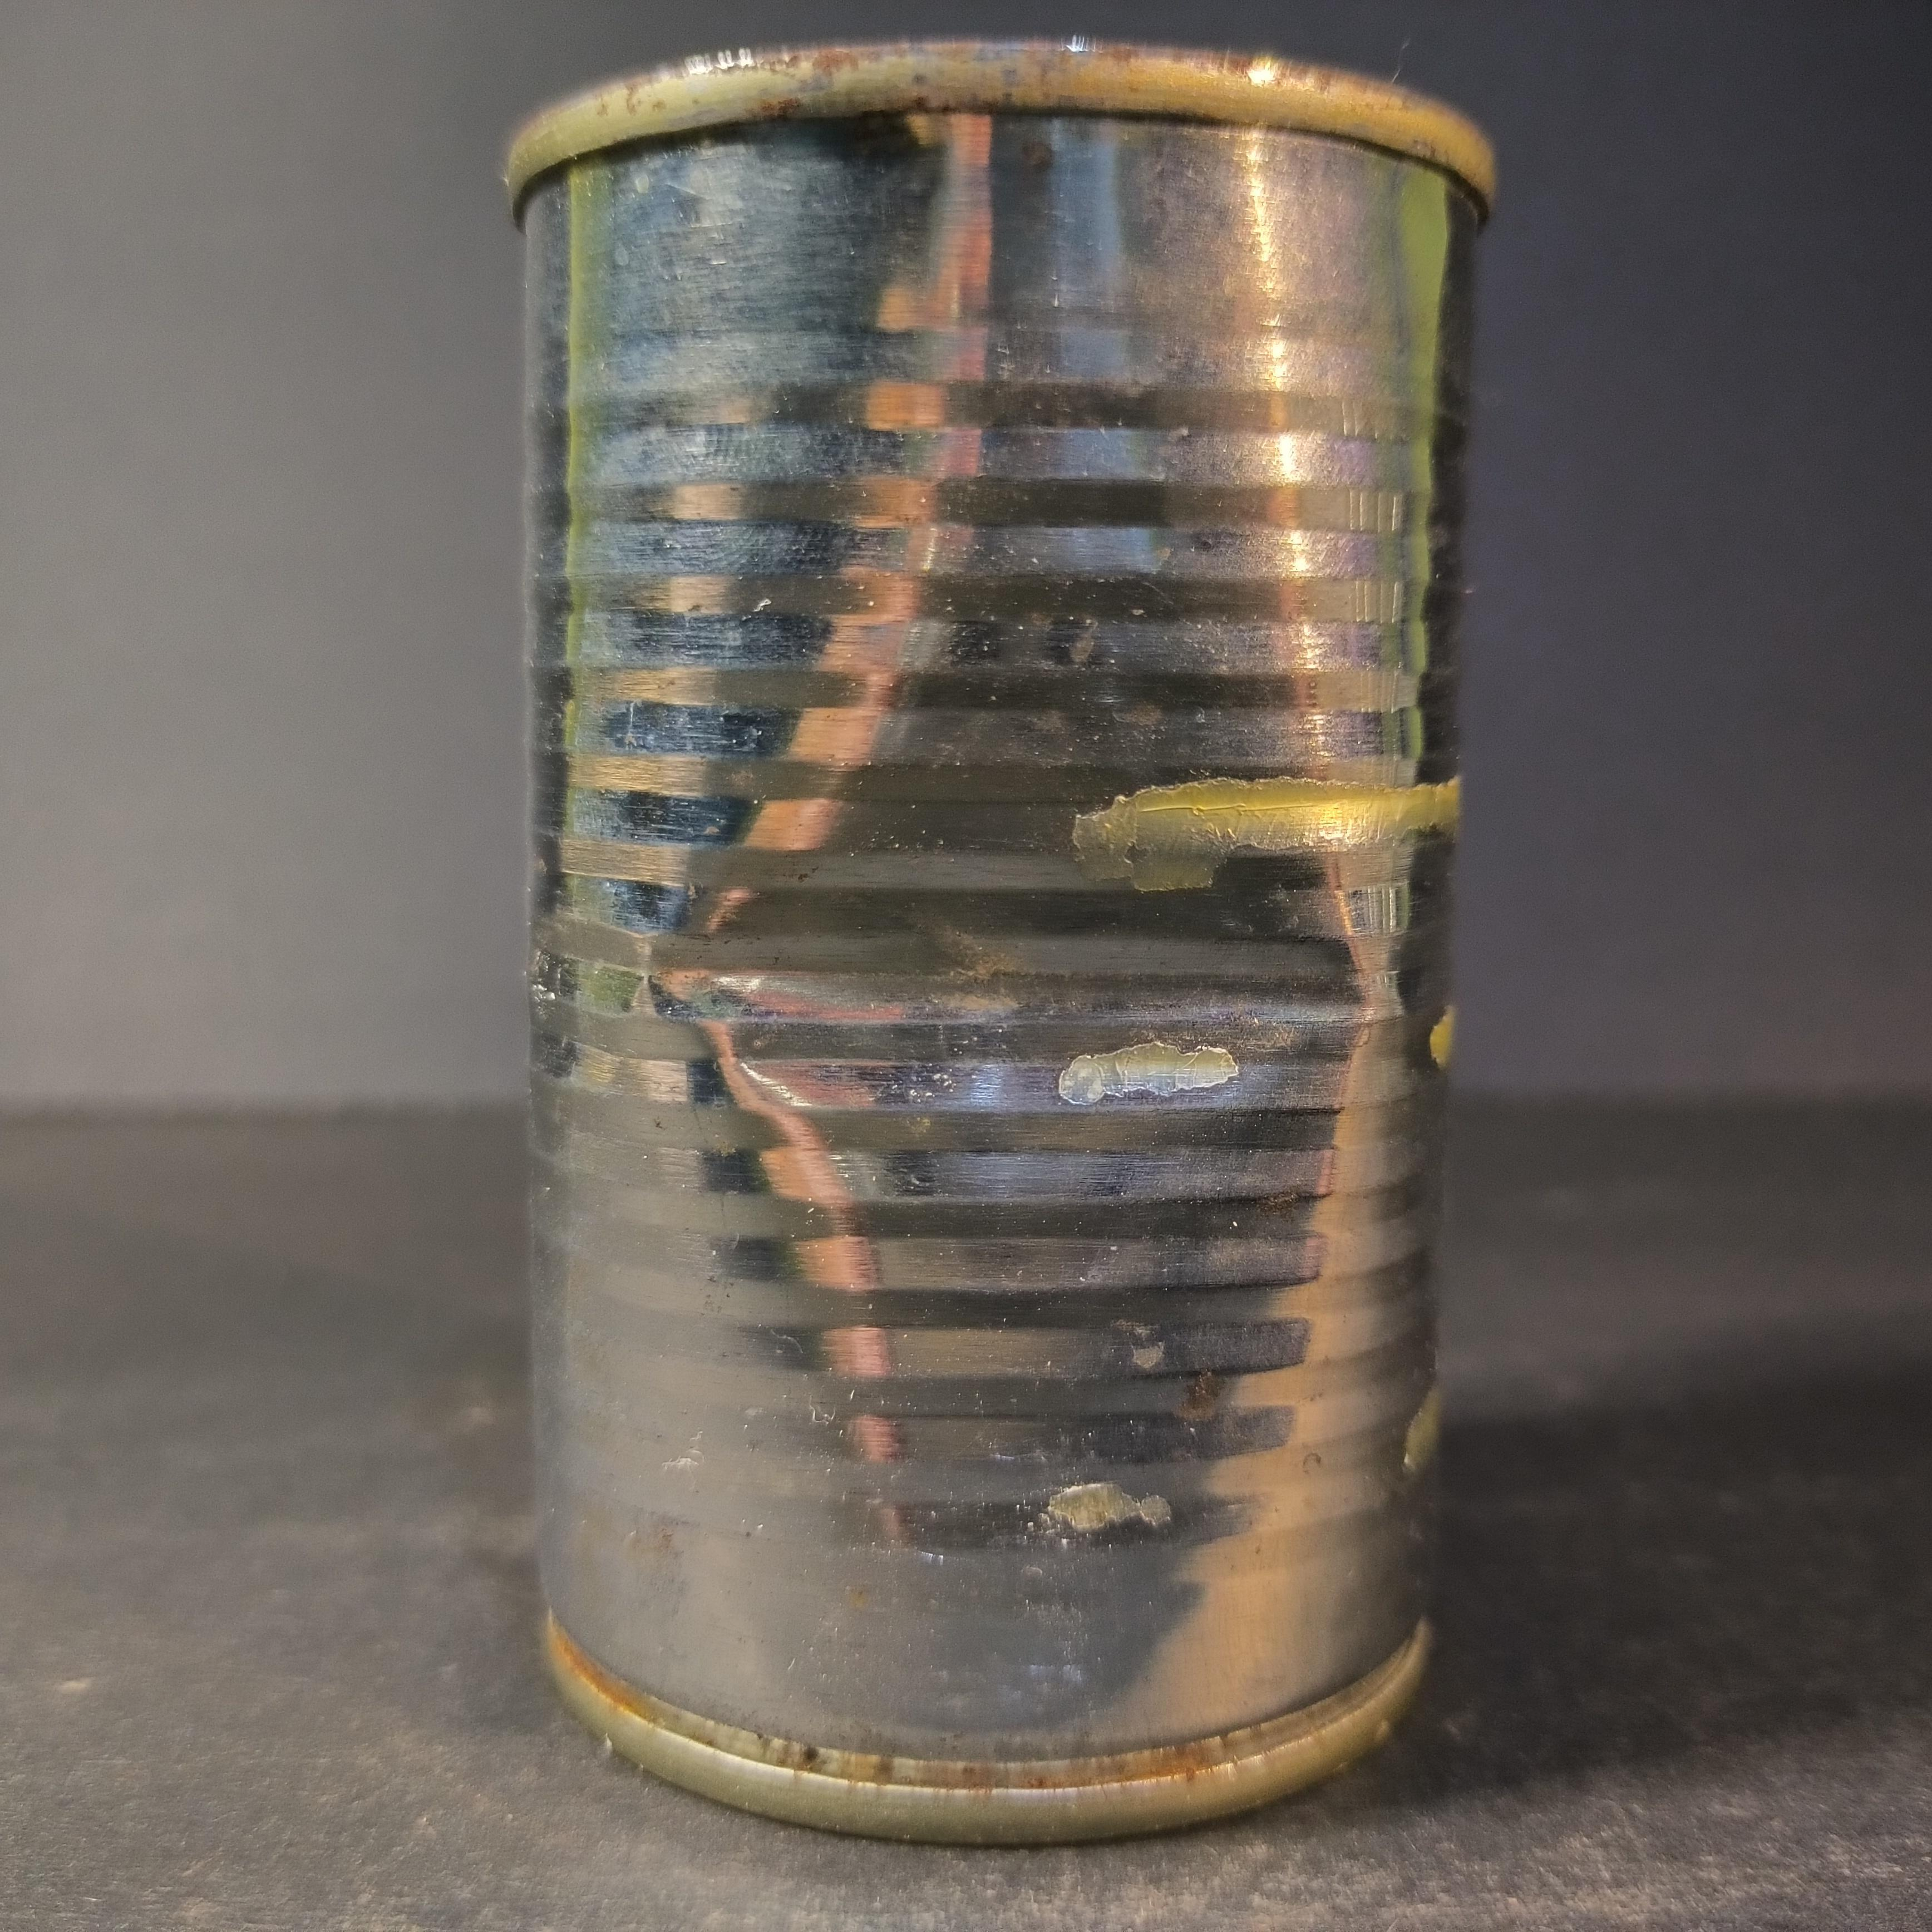Dented: (497, 0, 1486, 1884)
